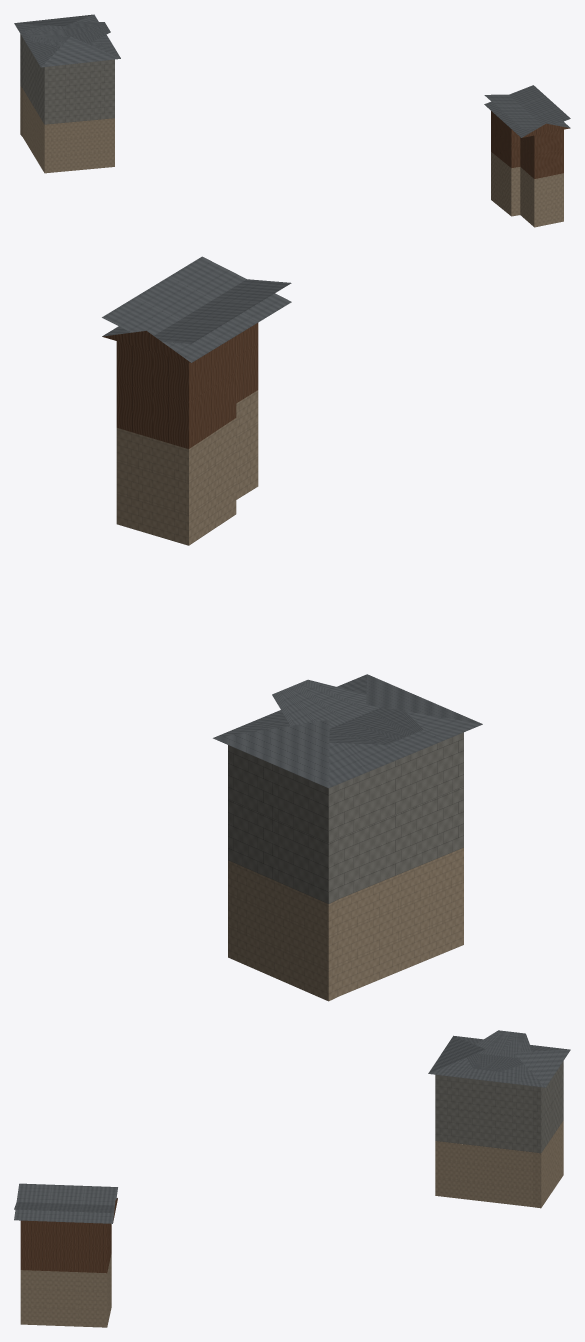
File: bld_c-1_-1_537.gltf
3 renders of one model, top to bottom at view 1: azimuth 30°, elevation 25°; view 2: azimuth 150°, elevation 25°; view 3: azimuth 270°, elevation 25°, orthographic. The views are drawn at different scales.
Visible parts, largest first — view 1: bld_c-1_-1_537; view 2: bld_c-1_-1_537; view 3: bld_c-1_-1_537.
Part boxes in pixels (x1,y1,x2,y2): bld_c-1_-1_537: (14, 14, 570, 227); bld_c-1_-1_537: (102, 256, 482, 1001); bld_c-1_-1_537: (14, 1030, 570, 1327).
Bounding box in the file's own units: 37.48 × 12.5 × 46.91.
Materials: 5 (5 with a texture image).
